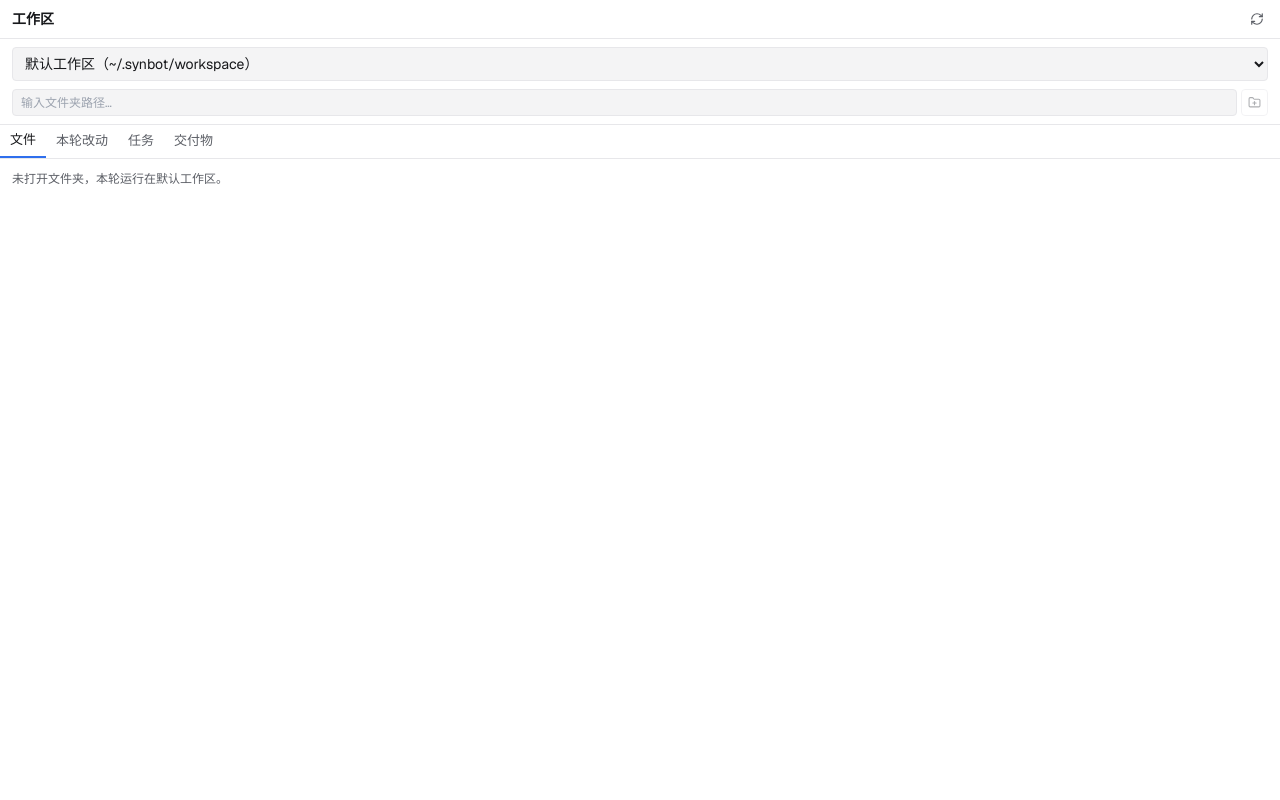
Test case: ProjectPanel checkpoint view › lists a turn’s files with line counts and shows the diff on click
The image size is (1280, 800).
Step 1. Click the button "本轮改动" → (82, 141), box x1=46 y1=125 x2=118 y2=158
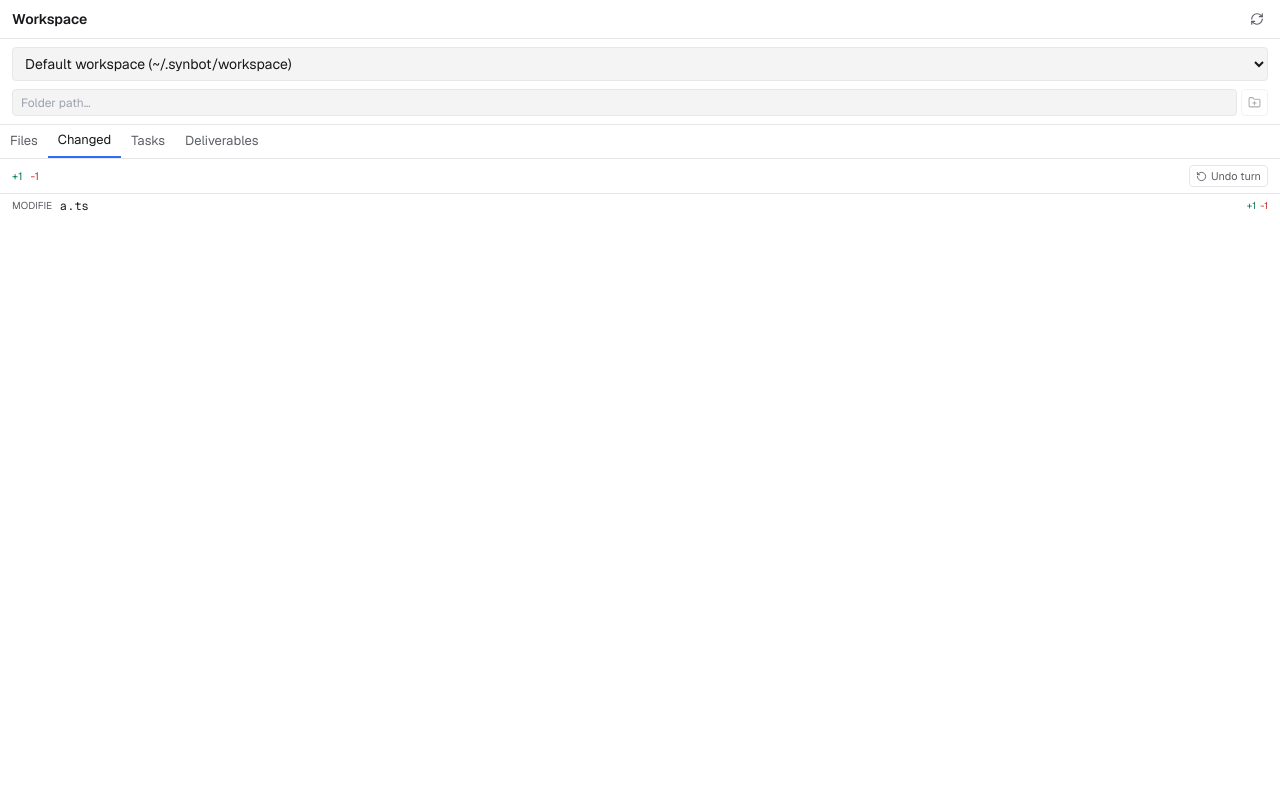
Expected: the 1st text "+1" is shown, x1=12 y1=168 x2=22 y2=184
Step 2. Click the button "modifie a.ts +1-1" → (32, 206), box x1=0 y1=194 x2=1279 y2=218
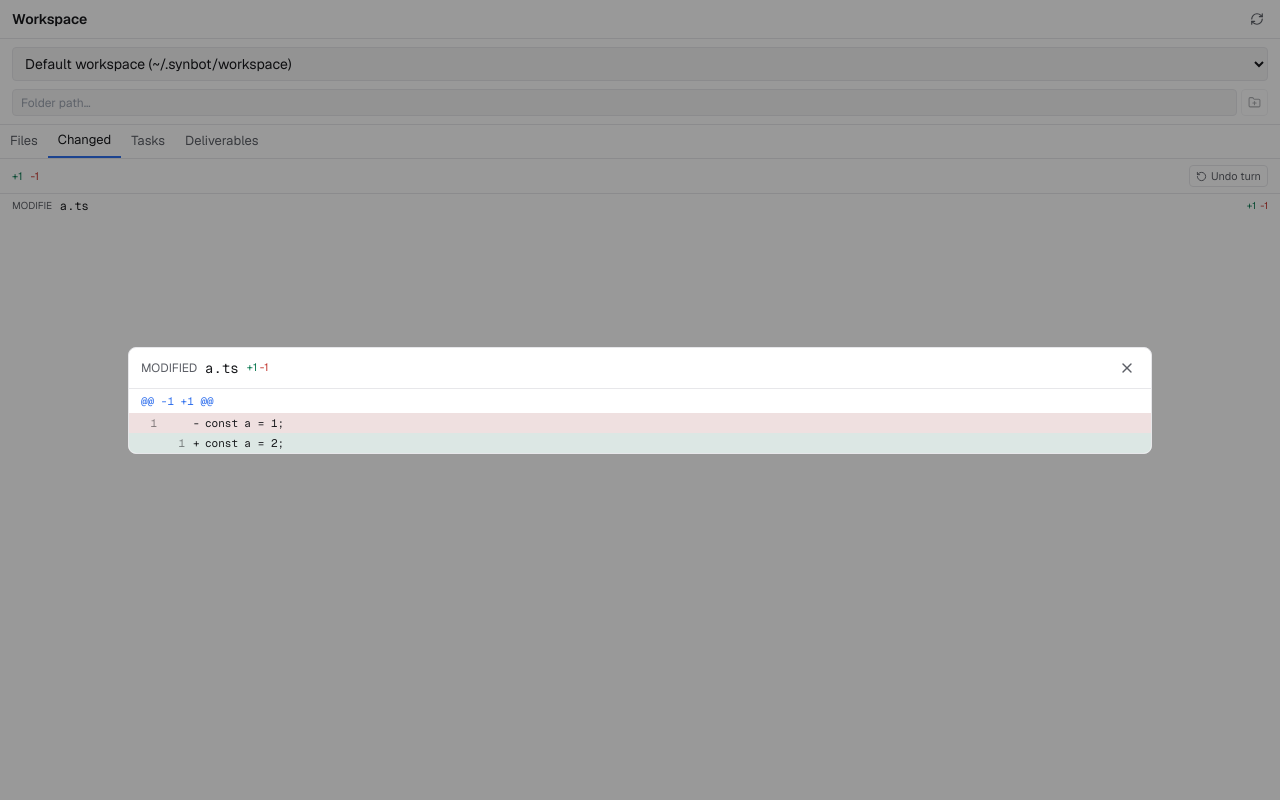
Expected: the text "const a = 1;" is shown, x1=205 y1=416 x2=284 y2=430
Expected: the text "const a = 2;" is shown, x1=205 y1=436 x2=284 y2=450
